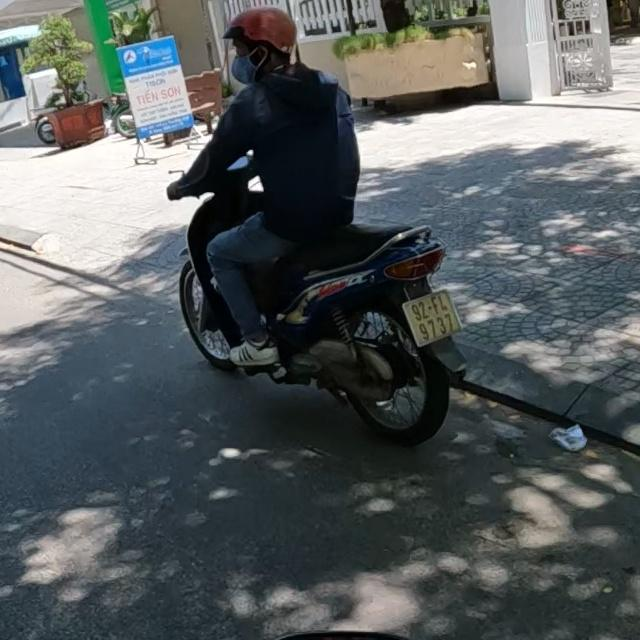license-plate: (399, 289, 464, 350)
